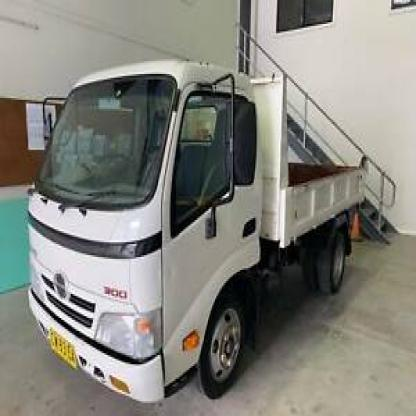dump_truck: (18, 50, 377, 407)
